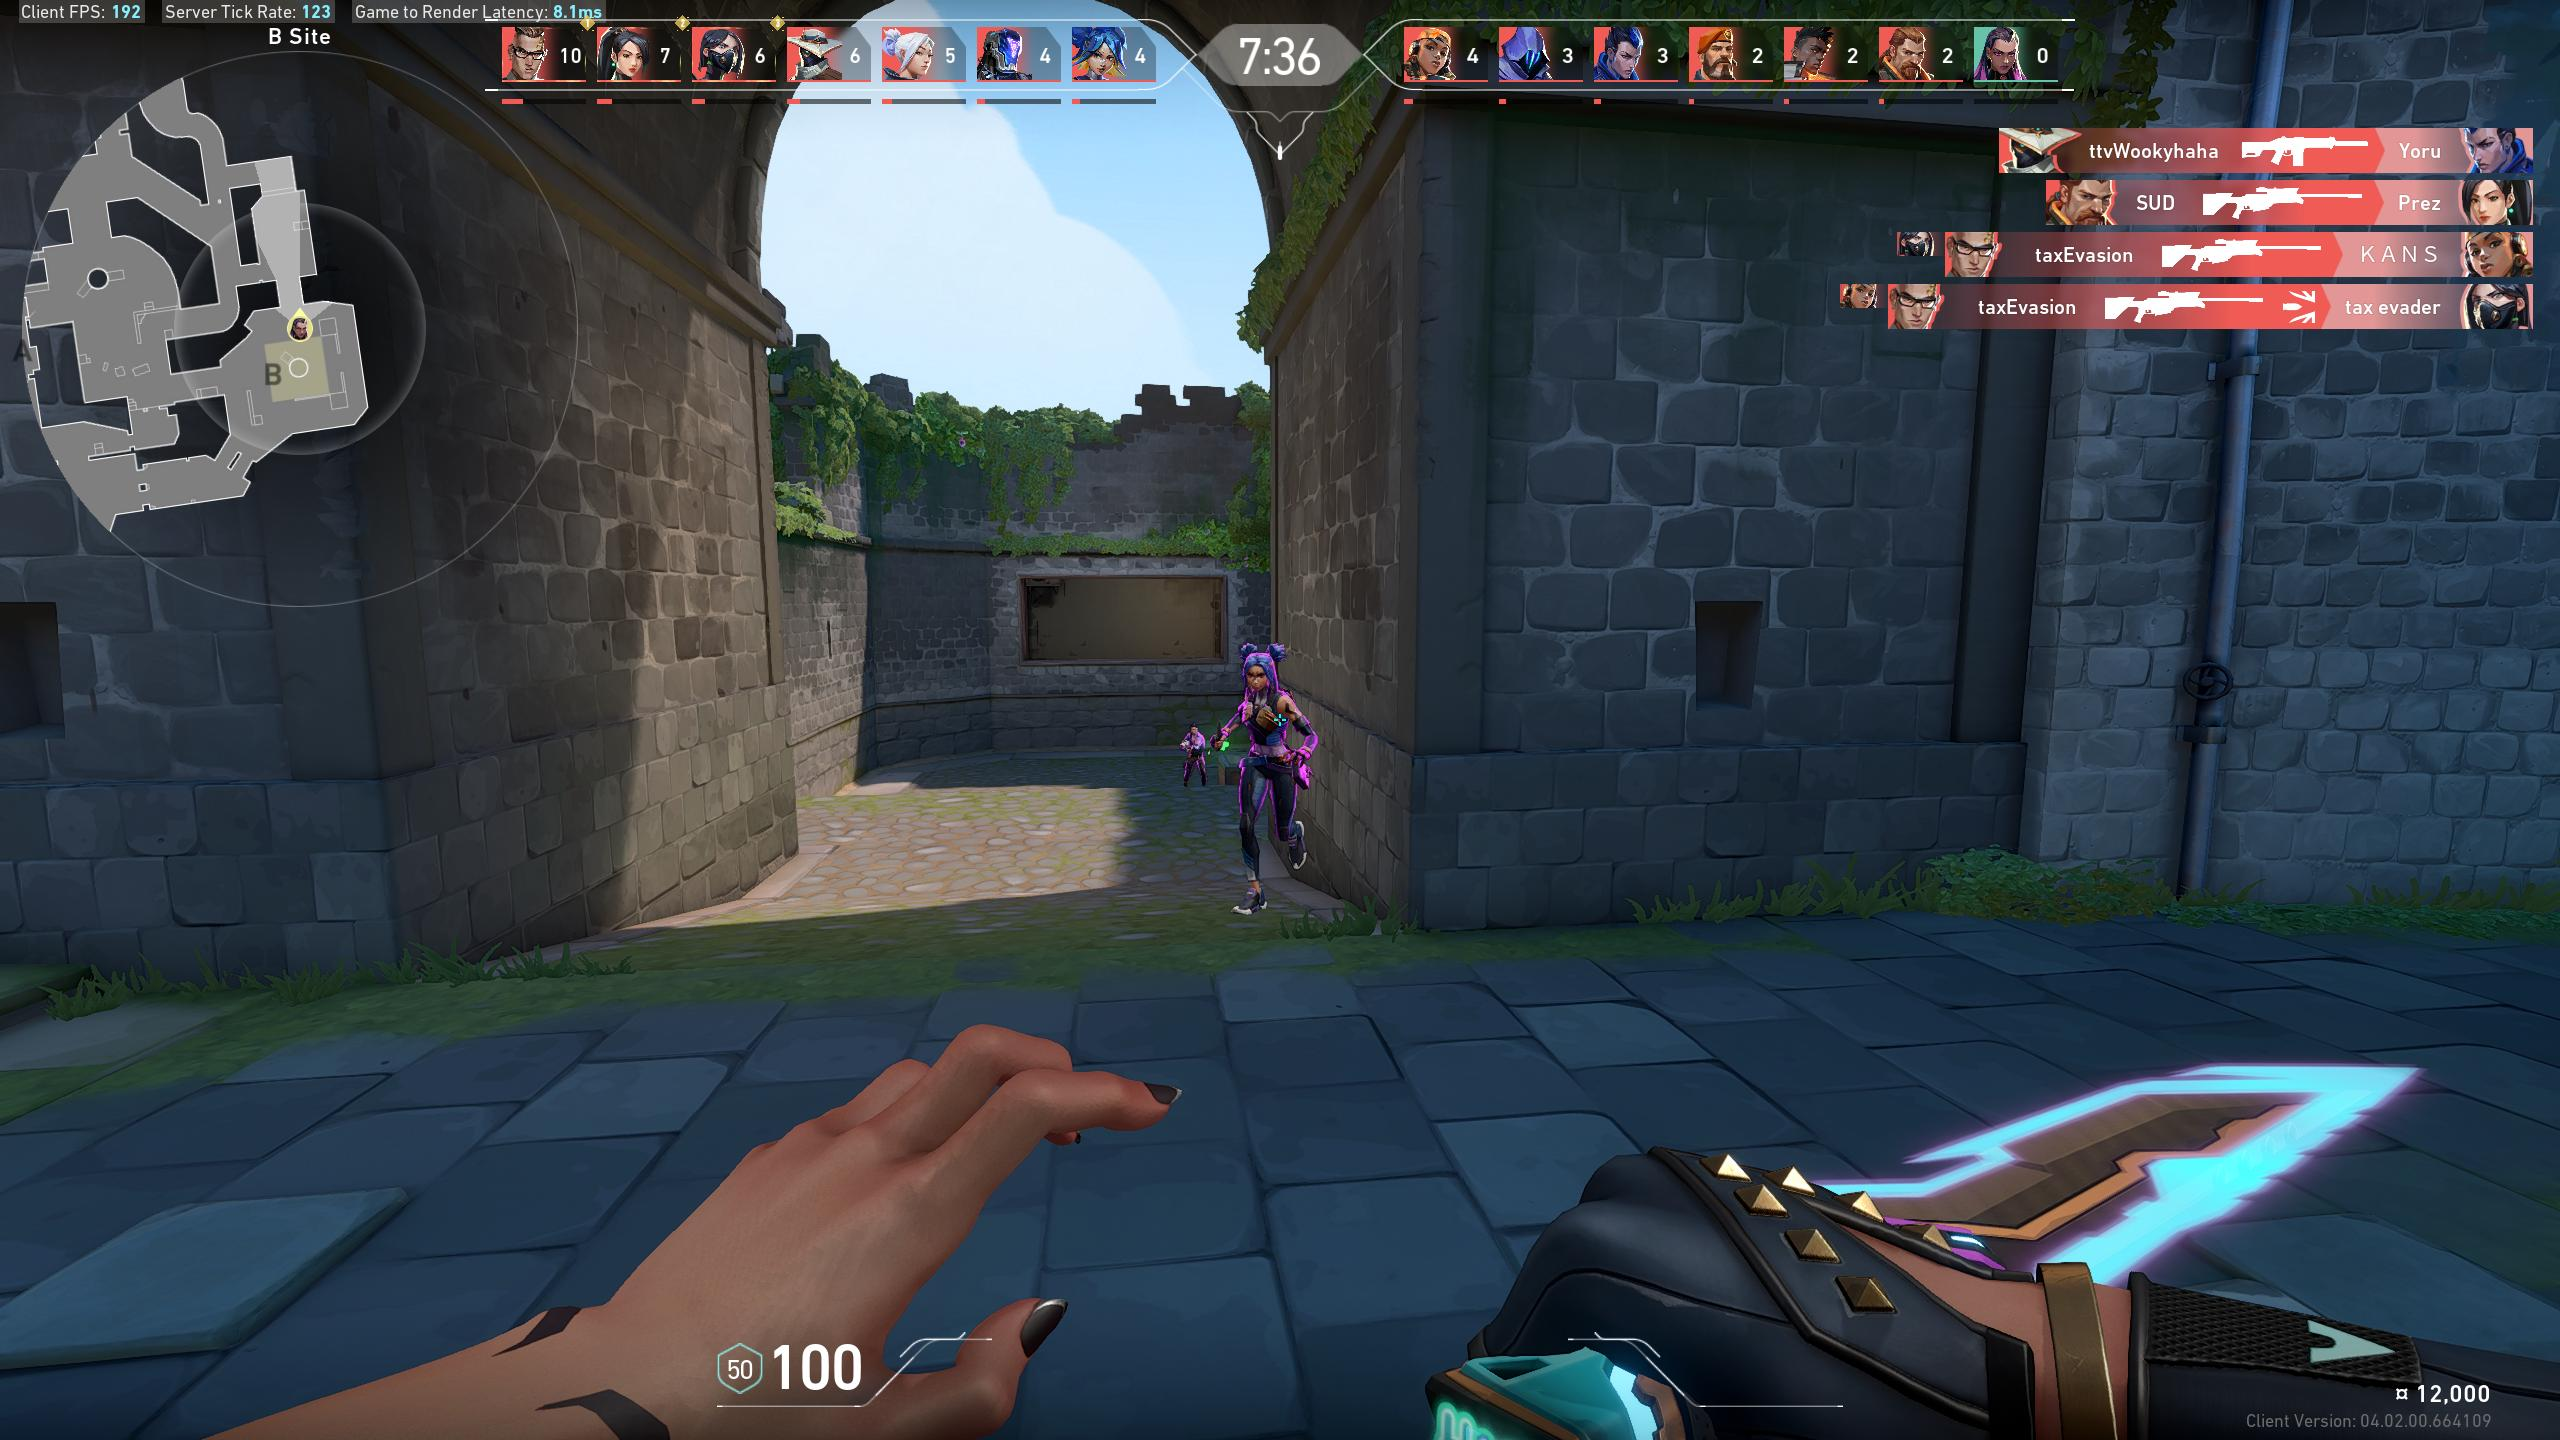enemyBody: (1254, 700, 1278, 753), (1190, 738, 1199, 760)
enemyHead: (1247, 663, 1269, 687), (1190, 726, 1197, 737)
